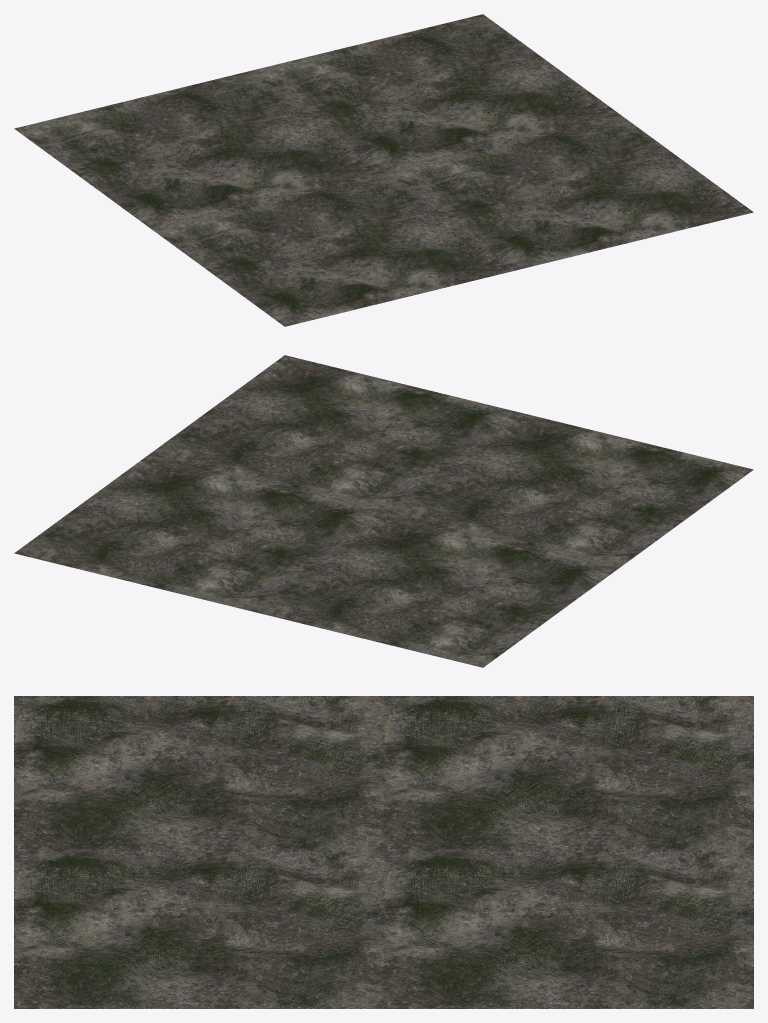
File: underground_floor_2_2.fbx
The picture shows the model from 3 angles, top to bottom: view 1: azimuth 30°, elevation 25°; view 2: azimuth 150°, elevation 25°; view 3: azimuth 270°, elevation 25°; orthographic projection. The views are drawn at different scales.
Visible parts, largest first — view 1: underground_floor_2_2; view 2: underground_floor_2_2; view 3: underground_floor_2_2.
Part boxes in pixels (bbox=[...]): underground_floor_2_2: bbox=[14, 14, 753, 326]; underground_floor_2_2: bbox=[14, 355, 753, 667]; underground_floor_2_2: bbox=[14, 696, 753, 1008].
Bounding box in the file's own units: 660 × 14.52 × 660.
1 material, 1 textured.
